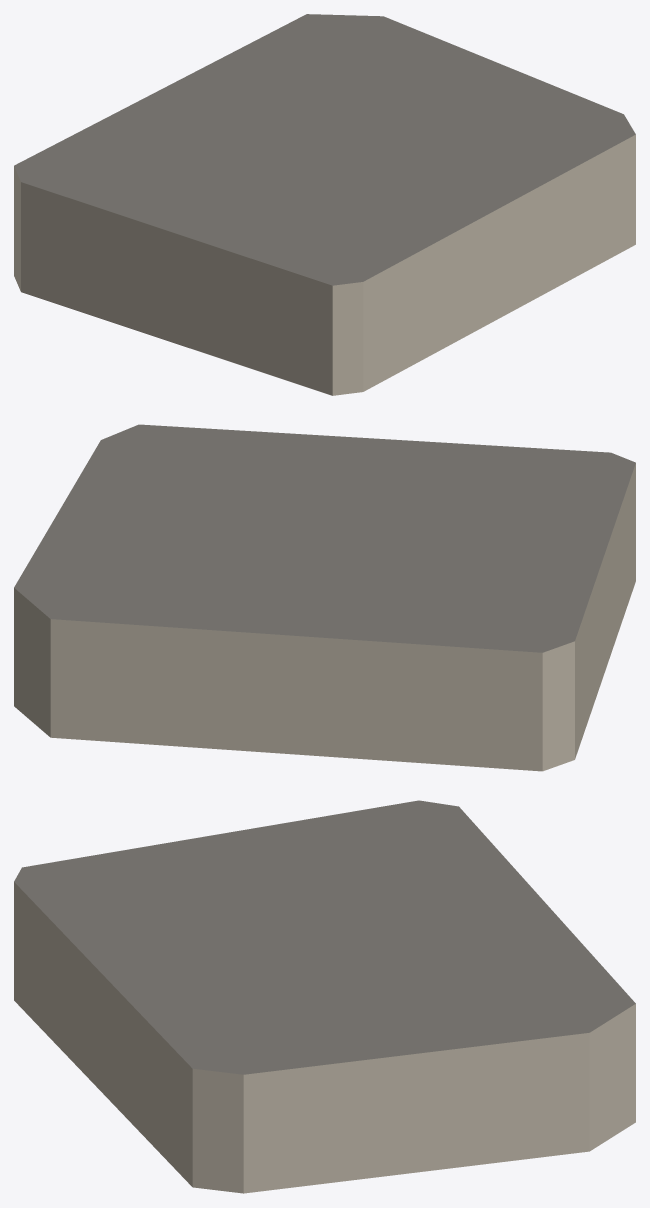
3 renders of one model, top to bottom at view 1: azimuth 30°, elevation 25°; view 2: azimuth 150°, elevation 25°; view 3: azimuth 270°, elevation 25°, orthographic. The views are drawn at different scales.
Parts seen in each view (by area): view 1: HP-w756799595; view 2: HP-w756799595; view 3: HP-w756799595.
Boxes of the visible parts, x1,y1,x2,y2 form: HP-w756799595: [14, 14, 635, 395]; HP-w756799595: [14, 424, 635, 771]; HP-w756799595: [14, 800, 635, 1193].
Bounding box in the file's own units: 59.45 × 12 × 56.96.
